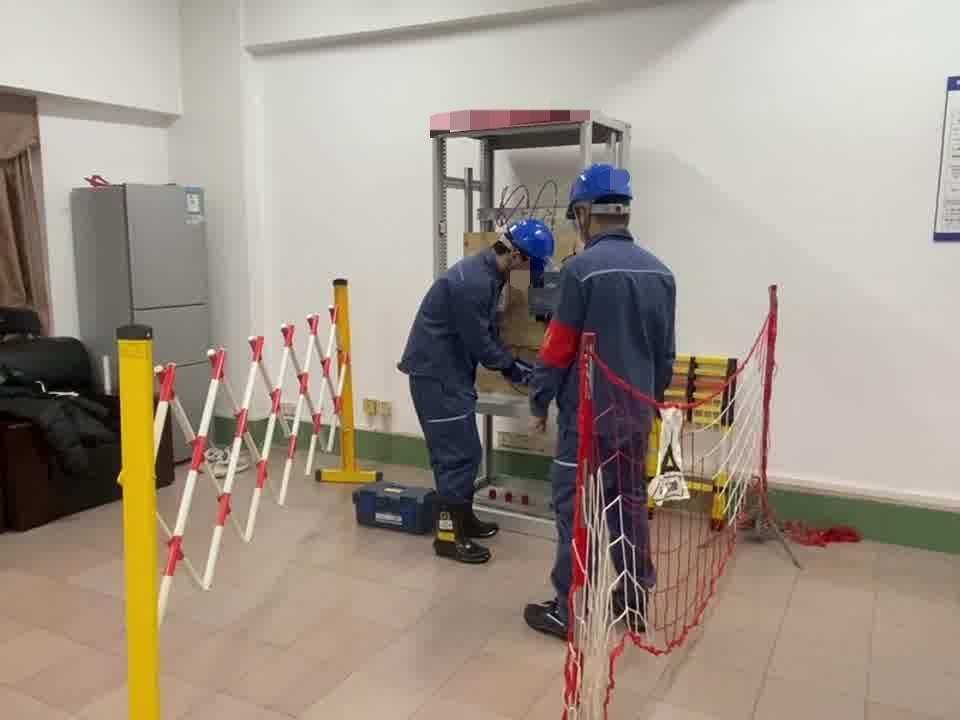halt: (568, 165, 637, 239), (508, 220, 558, 278)
inear: (574, 204, 597, 239)
